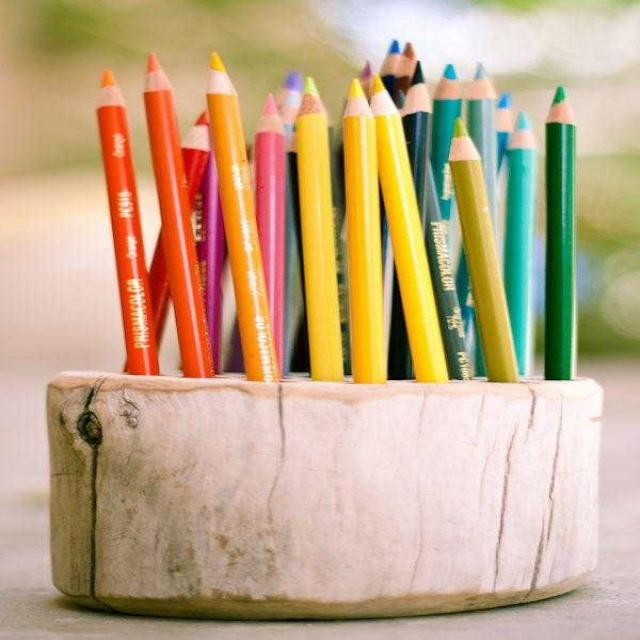pencil: (137, 34, 267, 389), (82, 44, 200, 393), (201, 29, 299, 398), (334, 69, 398, 401), (284, 65, 344, 391), (537, 78, 589, 394)
